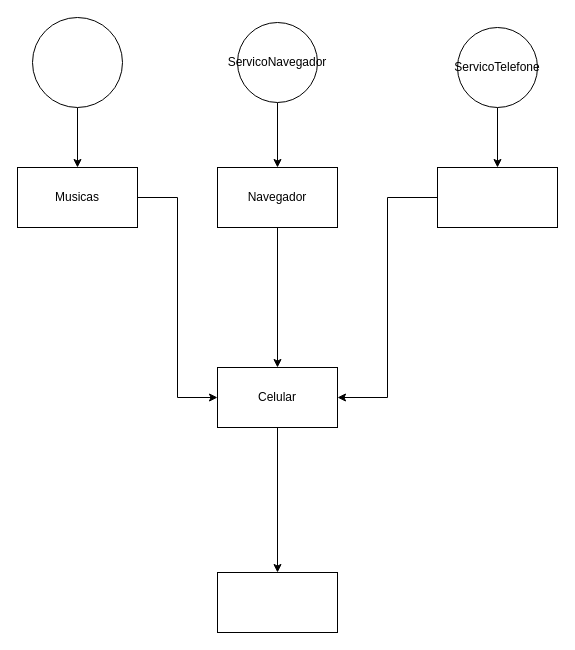
The diagram is 575 pixels wide and 650 high, and some of its shapes have lost their labels. The centre of each missing label's shape, as x and y in pixels:
"Iphone" goes at point 277,602.
"ServicoMusica" goes at point 77,62.
"Telefone" goes at point 497,197.
